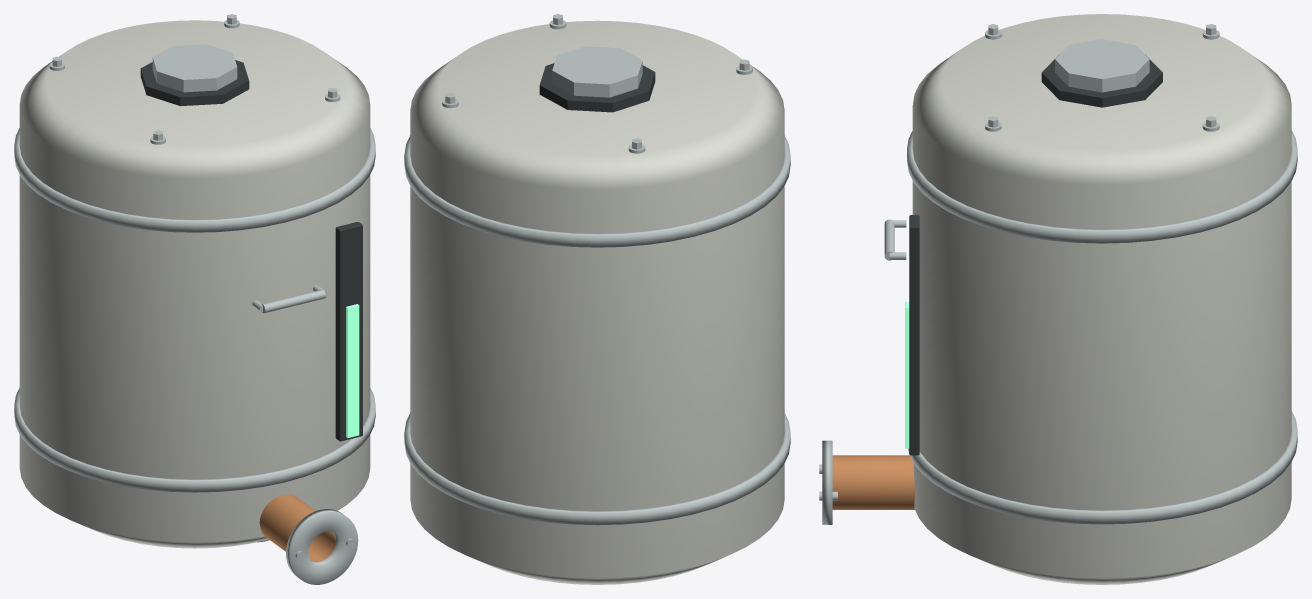
The model's file is generation-ship-hydroponics-generation-ship-hydroponic-9d5369de__31481.glb.
3 renders of one model, left to right at view 1: azimuth 30°, elevation 25°; view 2: azimuth 150°, elevation 25°; view 3: azimuth 270°, elevation 25°, orthographic. The views are drawn at different scales.
Parts seen in each view (by area): view 1: generation-ship-hydroponics-nutrient-reservoir; view 2: generation-ship-hydroponics-nutrient-reservoir; view 3: generation-ship-hydroponics-nutrient-reservoir.
Boxes of the visible parts, bbox=[...] form: generation-ship-hydroponics-nutrient-reservoir: bbox=[14, 14, 375, 584]; generation-ship-hydroponics-nutrient-reservoir: bbox=[404, 14, 790, 584]; generation-ship-hydroponics-nutrient-reservoir: bbox=[819, 14, 1297, 584].
Bounding box in the file's own units: 0.928 × 1.21 × 1.14.
